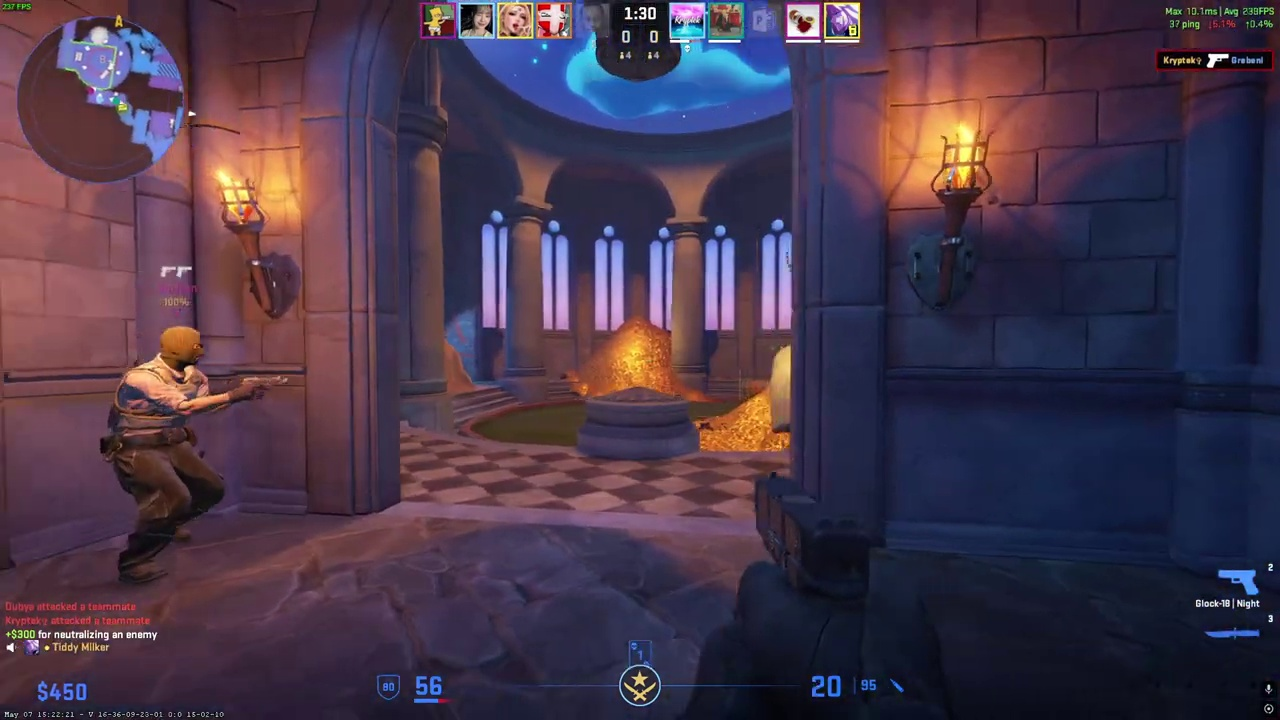Terrorist: (103, 326, 232, 587)
